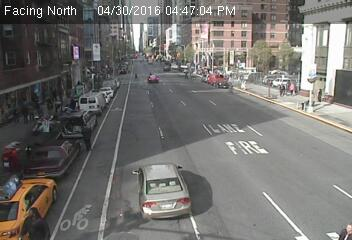neg: (159, 184, 183, 217), (110, 26, 126, 48), (168, 26, 184, 48), (219, 20, 234, 40), (136, 168, 150, 187), (317, 212, 331, 231), (138, 26, 152, 44), (240, 28, 254, 46), (200, 68, 213, 86), (176, 96, 189, 114), (202, 23, 215, 40), (310, 30, 323, 47), (149, 82, 161, 99), (84, 71, 96, 87), (215, 116, 226, 131), (253, 46, 264, 59), (288, 26, 298, 39), (166, 56, 174, 66), (140, 58, 147, 68)
pos: (74, 122, 97, 152), (286, 80, 299, 98), (44, 98, 56, 115), (314, 86, 326, 102), (27, 105, 39, 121), (10, 106, 22, 122), (276, 80, 288, 95), (69, 99, 78, 112), (132, 71, 139, 81), (183, 71, 190, 80), (121, 67, 127, 75)
